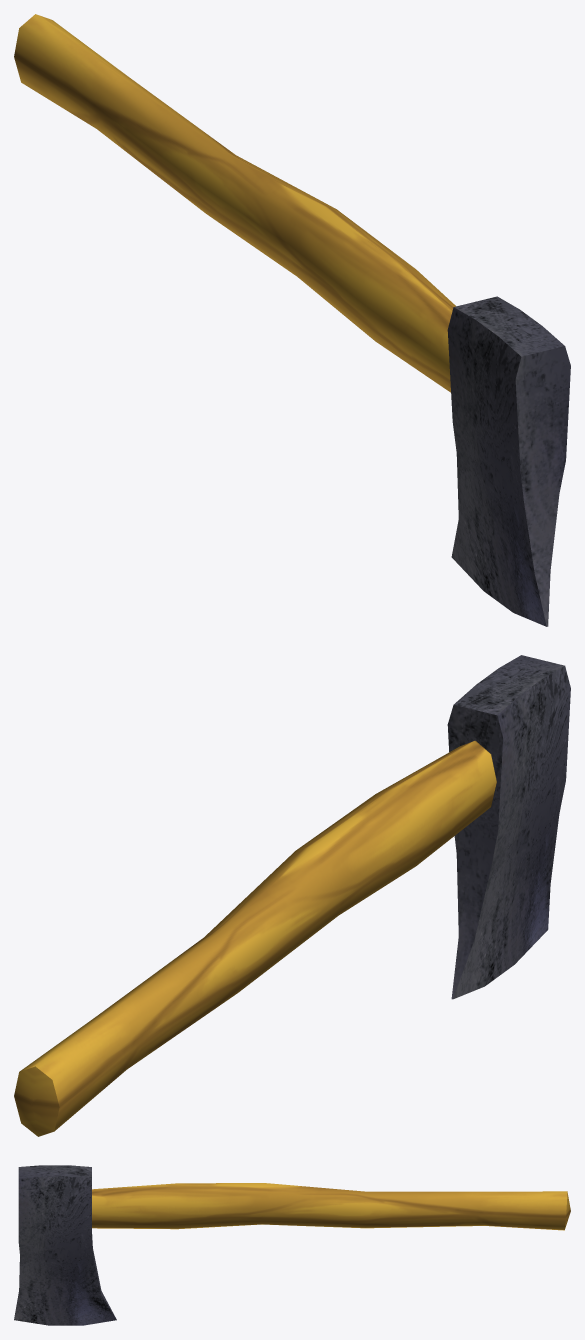
File: Axe01.fbx
3 views of the same model, one above another, from view 1: azimuth 30°, elevation 25°; view 2: azimuth 150°, elevation 25°; view 3: azimuth 270°, elevation 25° (orthographic). The views are drawn at different scales.
Parts seen in each view (by area): view 1: Axe01_LOD0; view 2: Axe01_LOD0; view 3: Axe01_LOD0.
Part boxes in pixels (x1,y1,x2,y2): Axe01_LOD0: [14, 14, 570, 626]; Axe01_LOD0: [14, 655, 570, 1136]; Axe01_LOD0: [14, 1165, 570, 1325].
Size of what is drawn, in the model's own units: 3.43 by 16.62 by 54.22.
